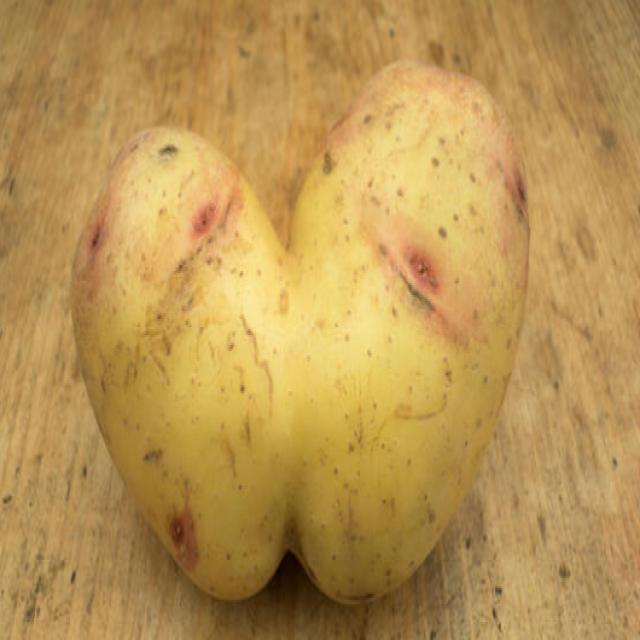paper: (61, 58, 532, 604), (300, 61, 534, 600), (68, 106, 296, 582)
